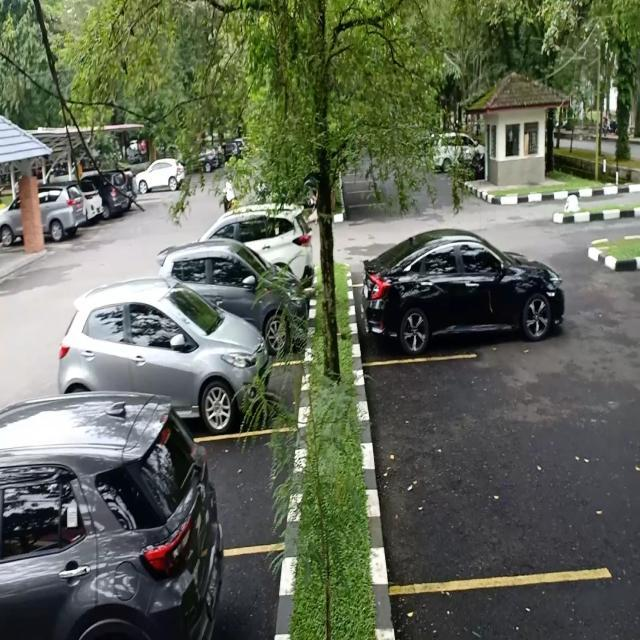empty: (362, 361, 591, 582), (209, 432, 289, 551)
occupied: (359, 253, 519, 360), (163, 341, 294, 438)
